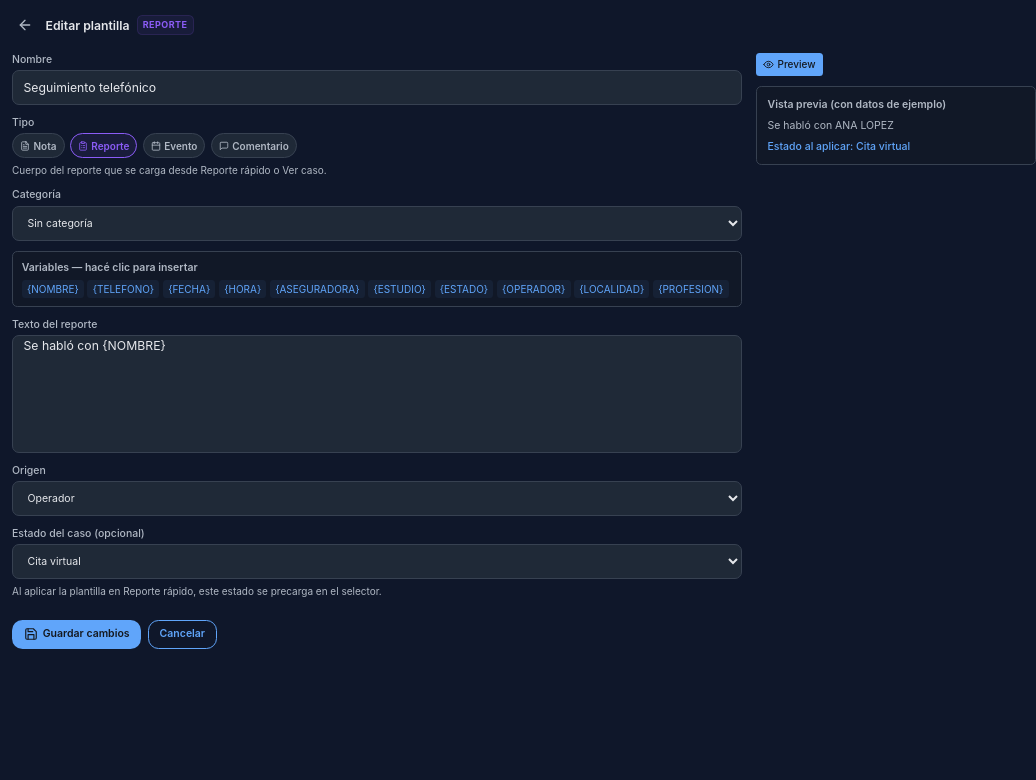
Test case: PlantillaForm (1.10.1 — mejora del form) › al editar muestra los mismos chips de tipo que al crear y el tipo es modificable
Expected: the heading "Editar plantilla" is shown, left=46, top=16, right=130, bottom=34
Expected: the text "Estado del caso (opcional)" is shown, left=12, top=527, right=145, bottom=540
Cambiar el tipo muestra los campos del nuevo tipo (igual que al crear).
Click the button "Evento" at point(174, 146), box left=143, top=133, right=206, bottom=158
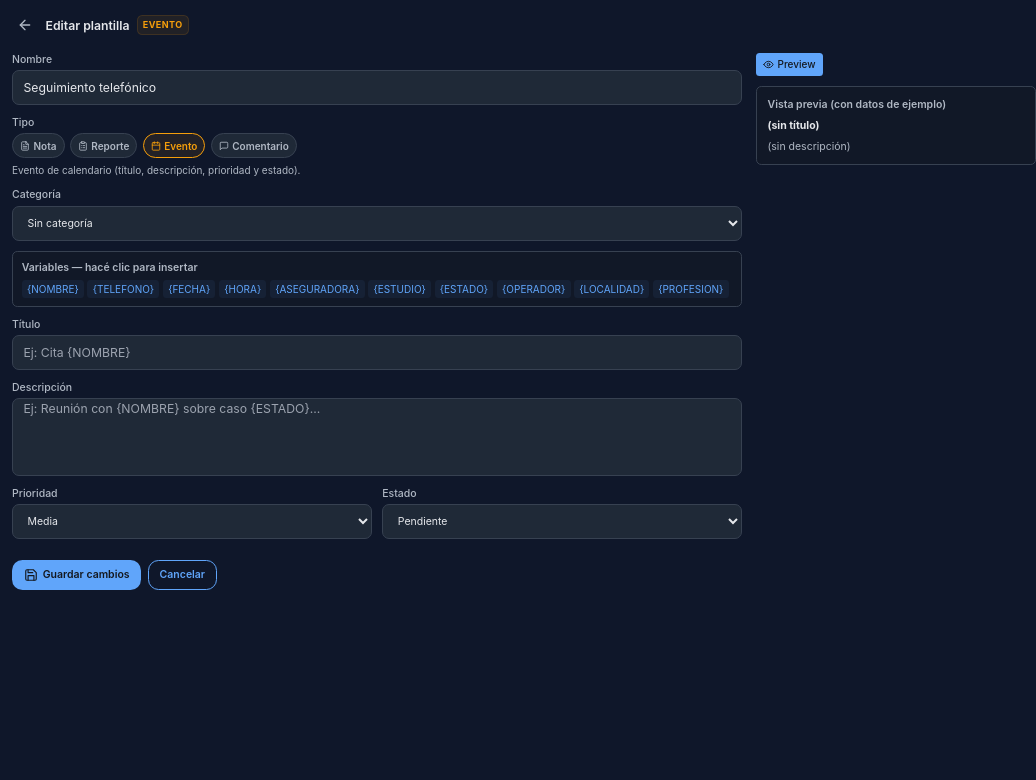
Now the text "Descripción" is shown, box left=12, top=381, right=72, bottom=394
Now the text "Estado del caso (opcional)" is gone
